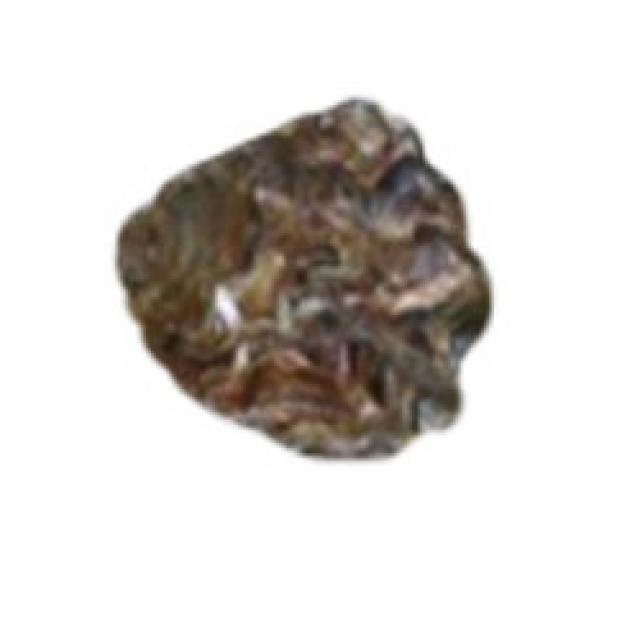Oyster- Indeterminate: (103, 93, 500, 470)
